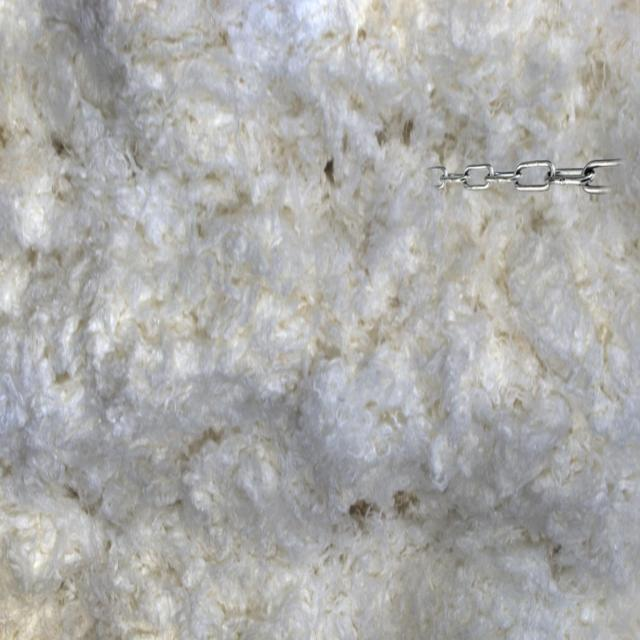dust: (410, 90, 640, 306)
